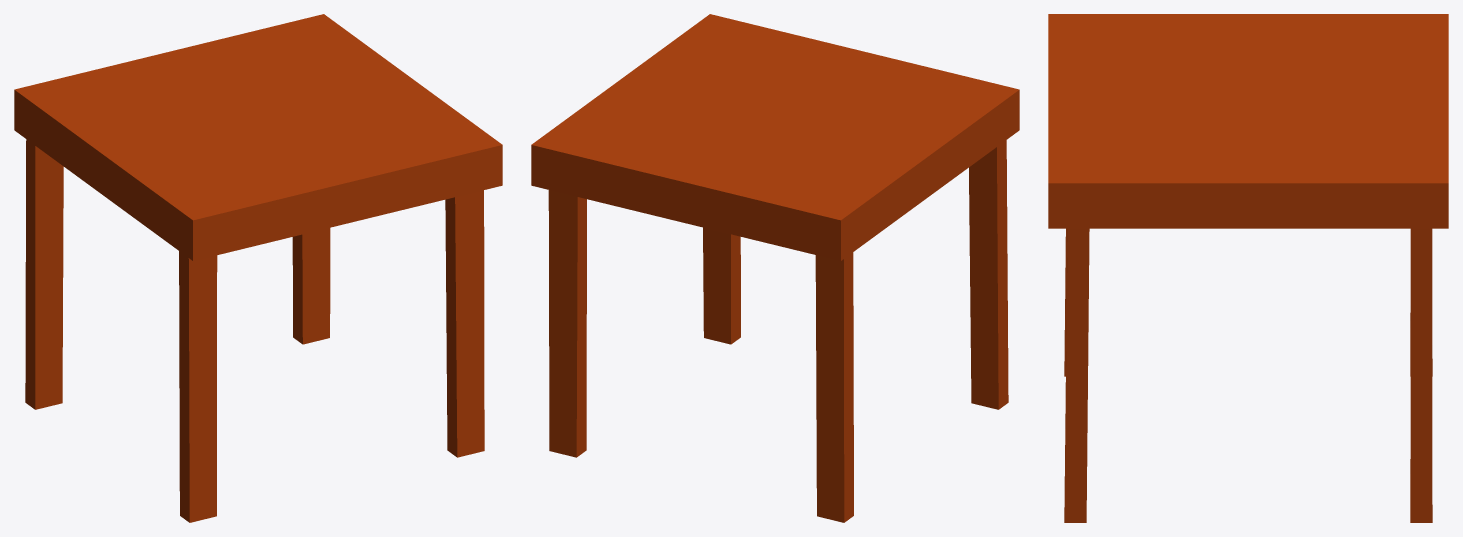
File: Table.fbx
The picture shows the model from 3 angles, left to right: view 1: azimuth 30°, elevation 25°; view 2: azimuth 150°, elevation 25°; view 3: azimuth 270°, elevation 25°; orthographic projection. The views are drawn at different scales.
Parts seen in each view (by area): view 1: Table; view 2: Table; view 3: Table.
Boxes of the visible parts, x1=… form: Table: x1=14, y1=14, x2=502, y2=522; Table: x1=531, y1=14, x2=1019, y2=522; Table: x1=1048, y1=14, x2=1448, y2=522.
Size of the model in its own units: 2.21 by 2.31 by 2.31.
